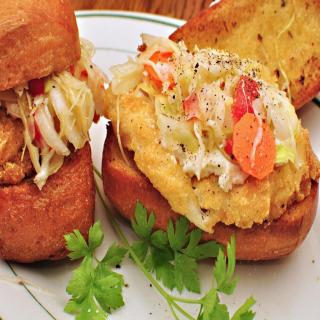Bread: (100, 122, 320, 261), (168, 0, 320, 112), (0, 142, 96, 266), (0, 0, 81, 93)
